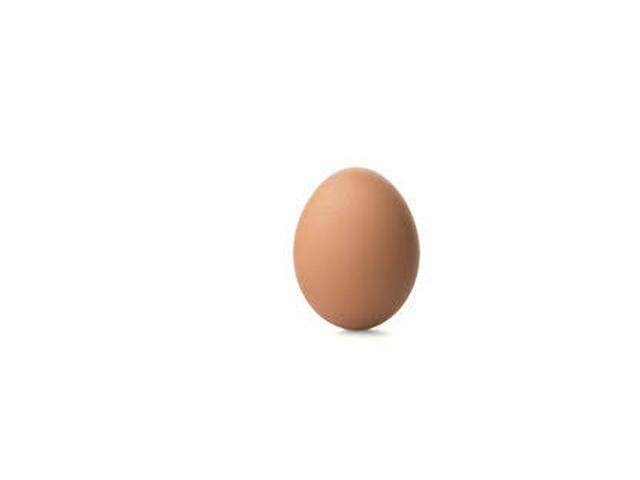egg: (295, 169, 419, 331)
